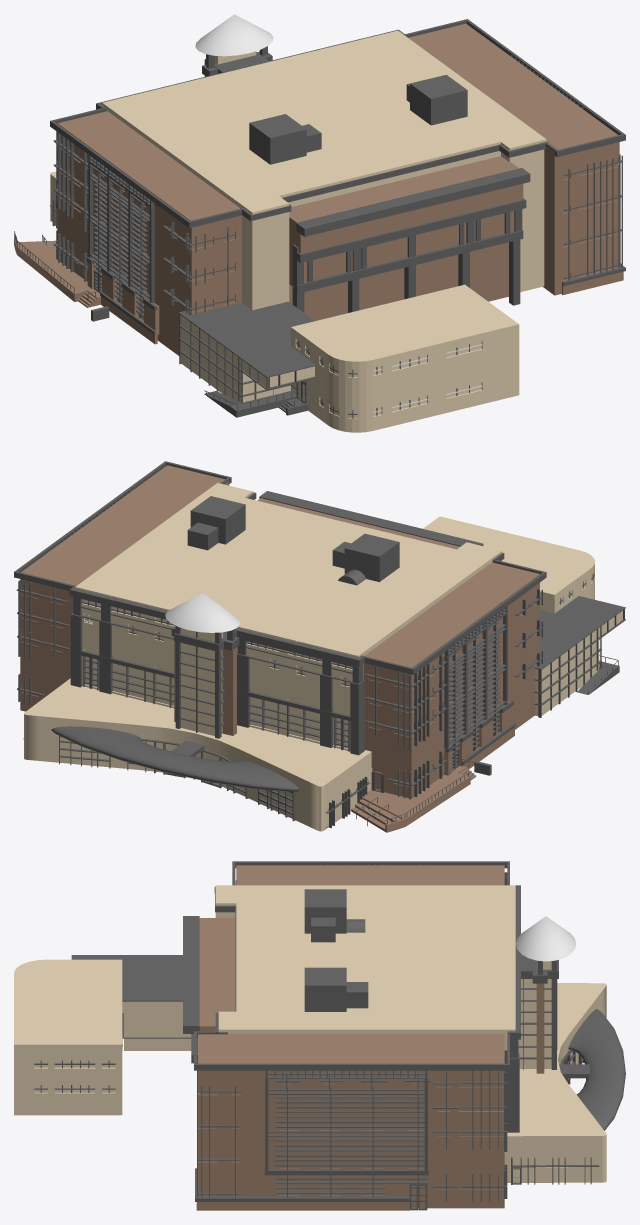
The model's file is perry library.fbx.
3 views of the same model, one above another, from view 1: azimuth 30°, elevation 25°; view 2: azimuth 150°, elevation 25°; view 3: azimuth 270°, elevation 25° (orthographic). The views are drawn at different scales.
Parts seen in each view (by area): view 1: base; view 2: base; view 3: base.
Boxes of the visible parts, bbox=[...] form: base: bbox=[14, 14, 625, 432]; base: bbox=[14, 461, 625, 832]; base: bbox=[14, 861, 625, 1210].
Size of the model in its own units: 160 by 67.96 by 194.
